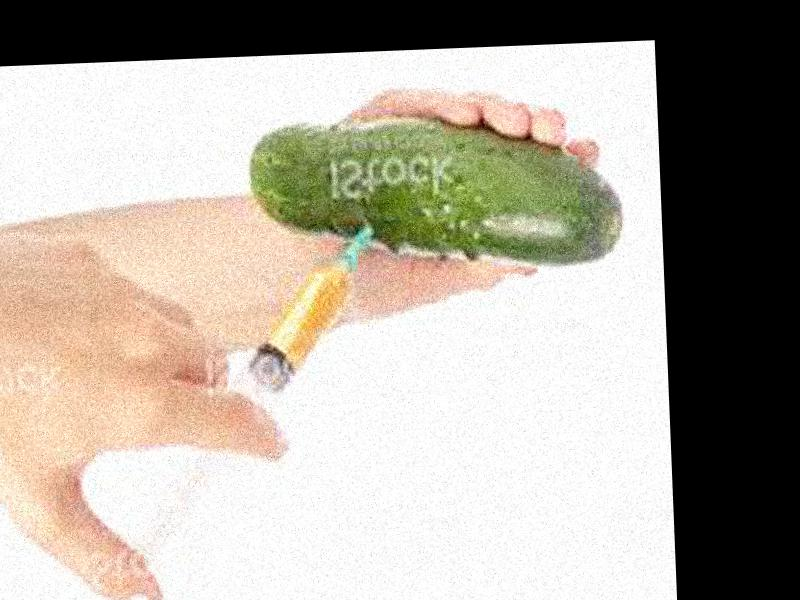Cucumber: (248, 119, 627, 276)
